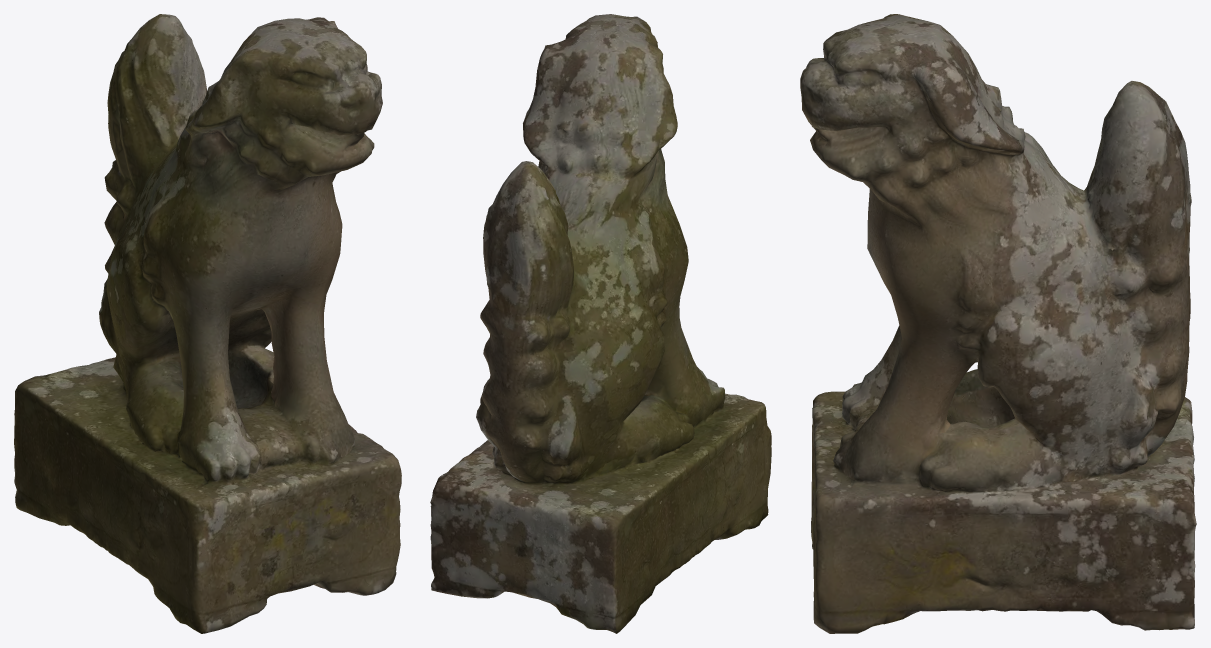
The model's file is komainu.glb.
The picture shows the model from 3 angles, left to right: view 1: azimuth 30°, elevation 25°; view 2: azimuth 150°, elevation 25°; view 3: azimuth 270°, elevation 25°; orthographic projection. The views are drawn at different scales.
Visible parts, largest first — view 1: ubrpbjcfa_LOD0_TIER1_000_MatID_1_0; view 2: ubrpbjcfa_LOD0_TIER1_000_MatID_1_0; view 3: ubrpbjcfa_LOD0_TIER1_000_MatID_1_0.
Part boxes in pixels (x1,y1,x2,y2): ubrpbjcfa_LOD0_TIER1_000_MatID_1_0: [14, 14, 401, 633]; ubrpbjcfa_LOD0_TIER1_000_MatID_1_0: [430, 14, 771, 633]; ubrpbjcfa_LOD0_TIER1_000_MatID_1_0: [800, 14, 1196, 633].
Size of the model in its own units: 0.6558 by 1.61 by 1.
Materials: 1 (1 with a texture image).
